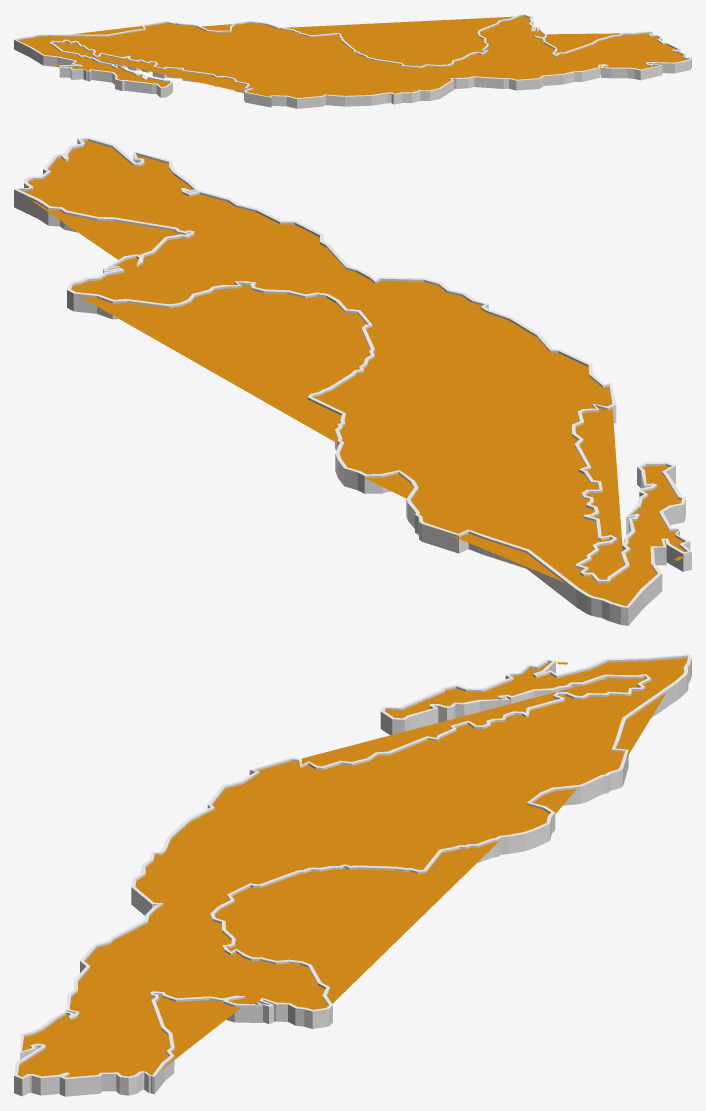
File: Mexica.fbx
3 views of the same model, one above another, from view 1: azimuth 30°, elevation 25°; view 2: azimuth 150°, elevation 25°; view 3: azimuth 270°, elevation 25° (orthographic). The views are drawn at different scales.
Parts seen in each view (by area): view 1: Mexica; view 2: Mexica; view 3: Mexica.
Boxes of the visible parts, box(x1,y1,x2,y2) form: Mexica: box(14, 14, 691, 108); Mexica: box(14, 137, 691, 625); Mexica: box(14, 654, 691, 1096).
Bounding box in the file's own units: 730 × 14.31 × 492.
